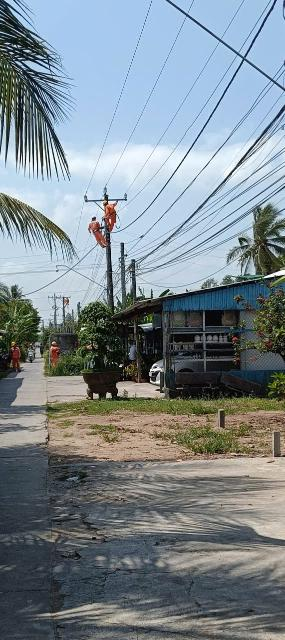harness: (106, 212, 120, 216), (91, 229, 104, 233)
helmet: (50, 340, 58, 347), (91, 214, 97, 220), (10, 342, 18, 346), (101, 201, 108, 205)
